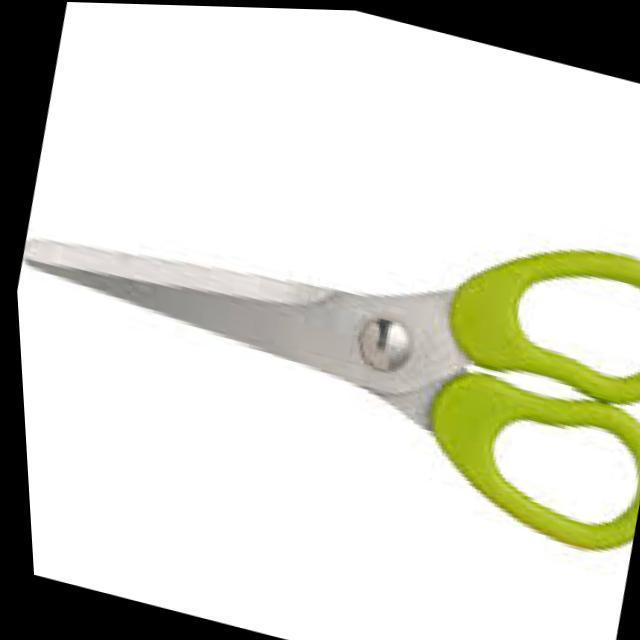tesoura: (24, 240, 639, 549)
